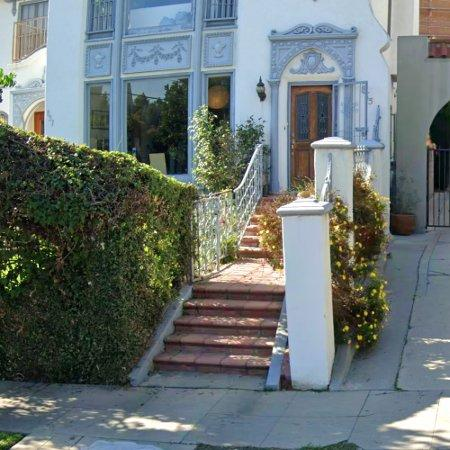stairs: (155, 283, 285, 377), (238, 198, 278, 260)
